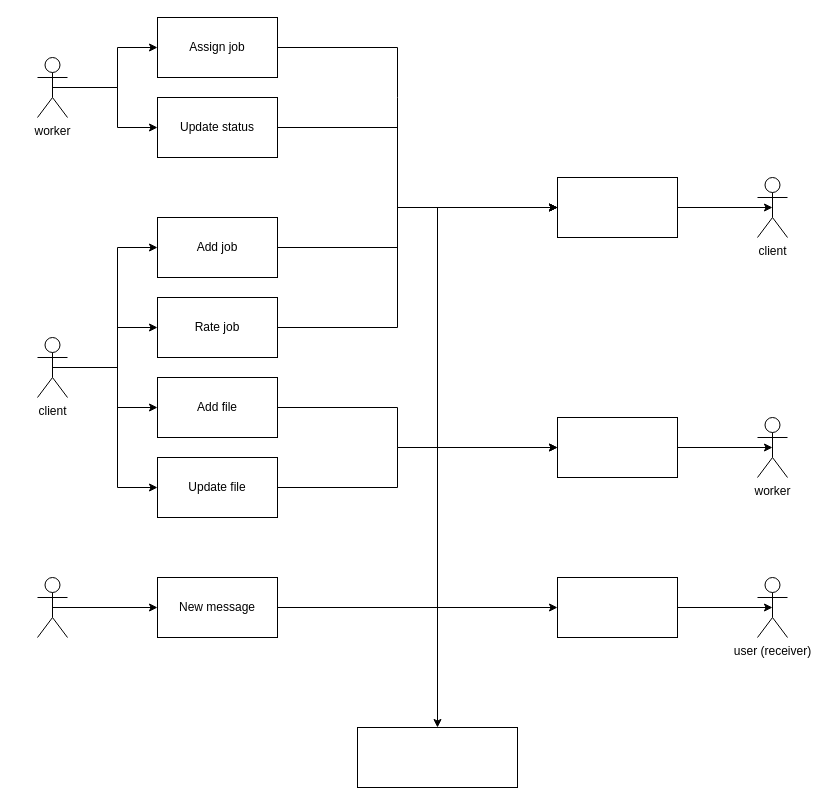
The diagram is 828 pixels wide and 805 high, and some of its shapes have lost their labels. The shapes that lost their labels are listed below. From the top down, each one's box as (x1, y1, x2, y2) in pixels, then its label:
(556, 176, 678, 238): Event of type "status"
(556, 416, 678, 478): Event of type "file"
(36, 576, 68, 638): user (sender)
(556, 576, 678, 638): Event of type "message"
(356, 726, 518, 788): Dispatch NotificationsEmail
